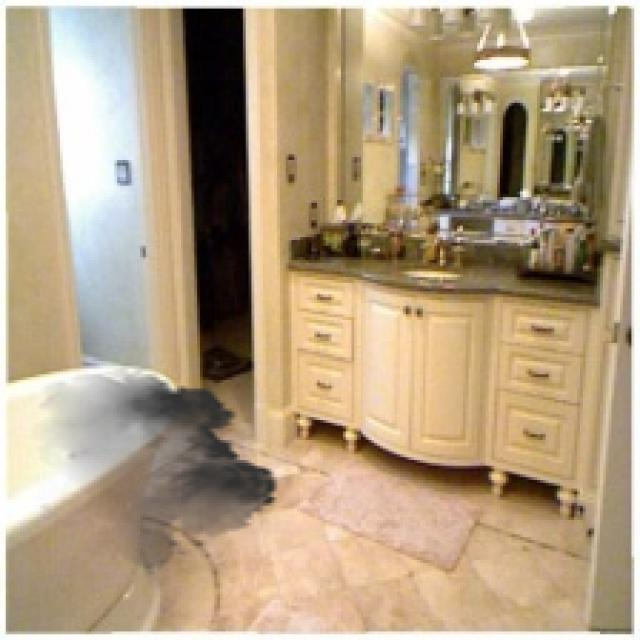Smoke: (25, 368, 288, 578)
